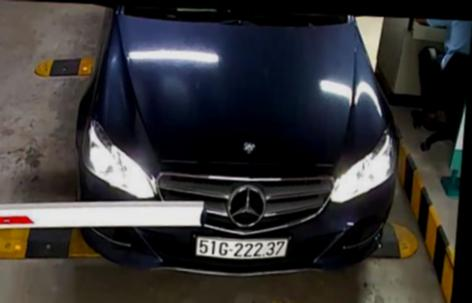License_Plate: (191, 229, 297, 267)
